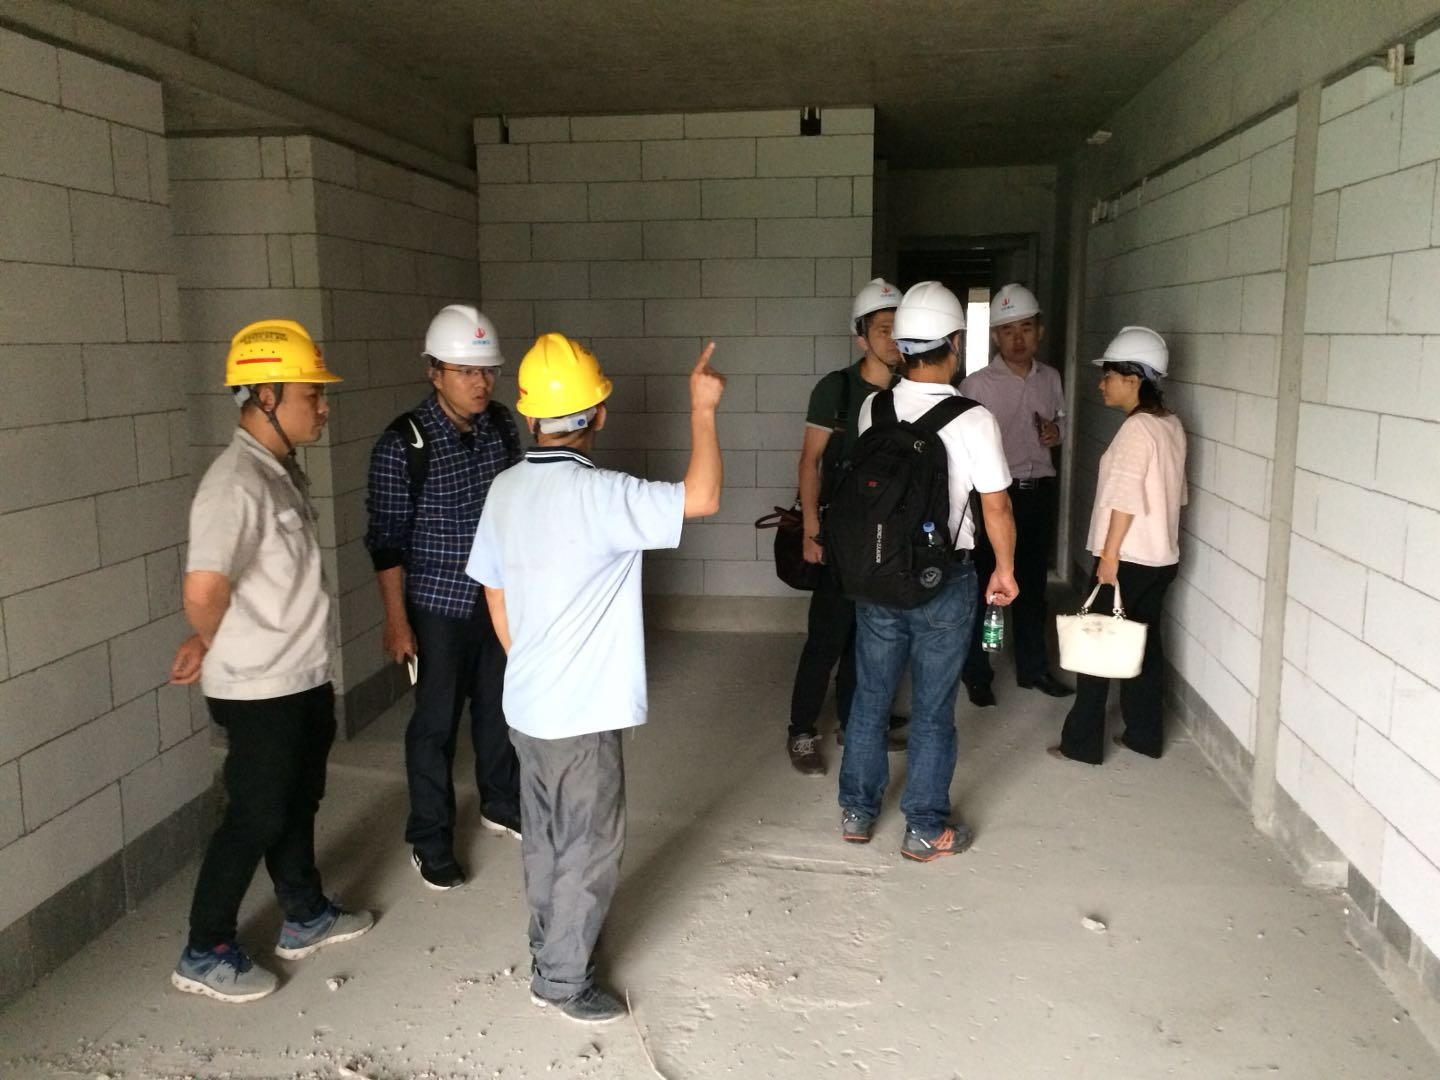white: (417, 293, 503, 414), (1090, 320, 1174, 416), (891, 277, 968, 379), (986, 277, 1042, 364), (846, 275, 898, 366)
yellow: (222, 317, 332, 447), (514, 329, 620, 453)
